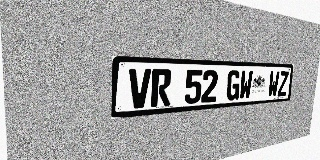2: (201, 70, 218, 103)
5: (184, 69, 203, 104)
G: (226, 70, 241, 101)
R: (151, 69, 172, 107)
V: (128, 68, 151, 109)
W: (239, 70, 253, 100), (268, 71, 280, 97)
Z: (277, 71, 289, 96)
